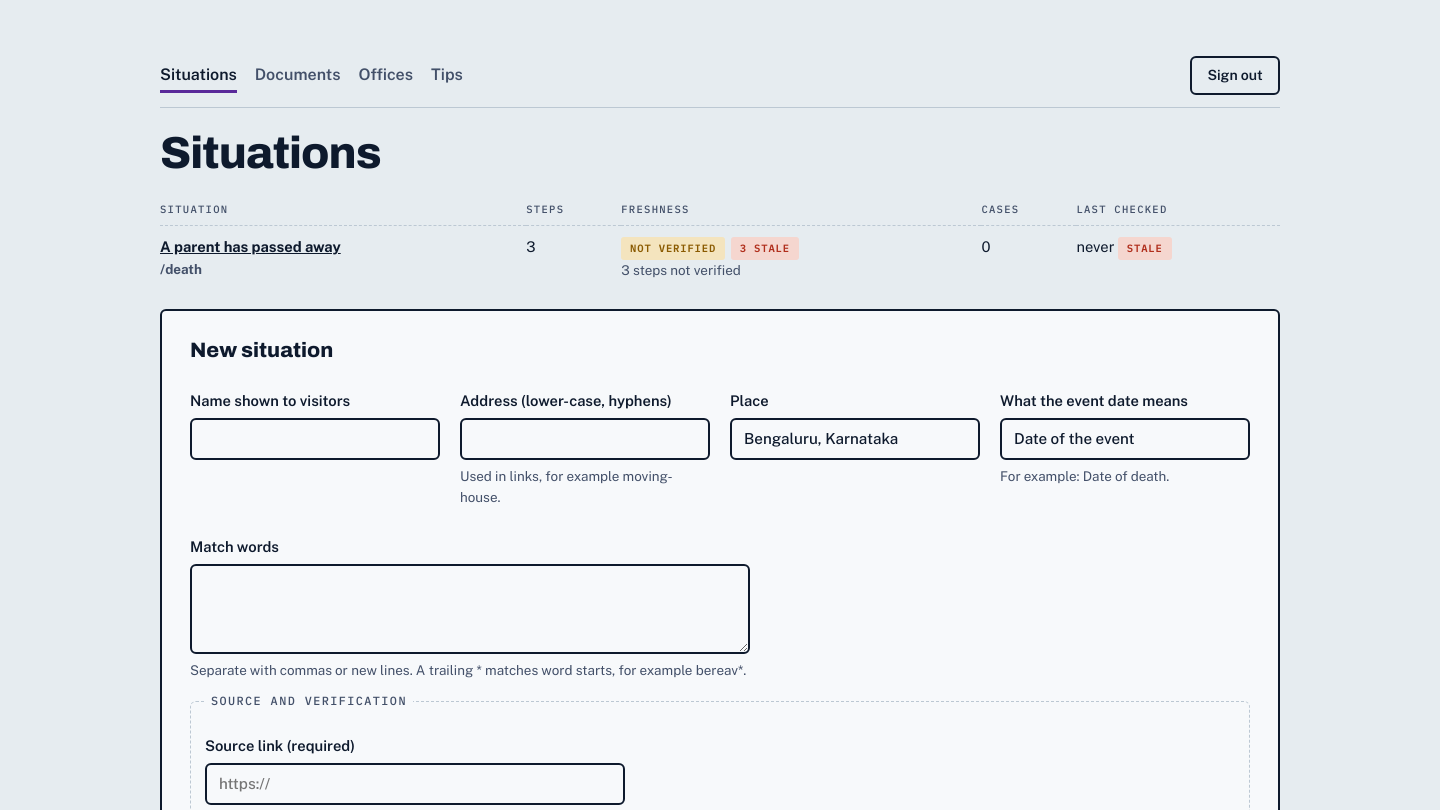
Test case: Admin: sign in › signs out
This screenshot has width=1440, height=810.
Click the button "Sign out".
click(1235, 75)  # box [1190, 56, 1280, 95]
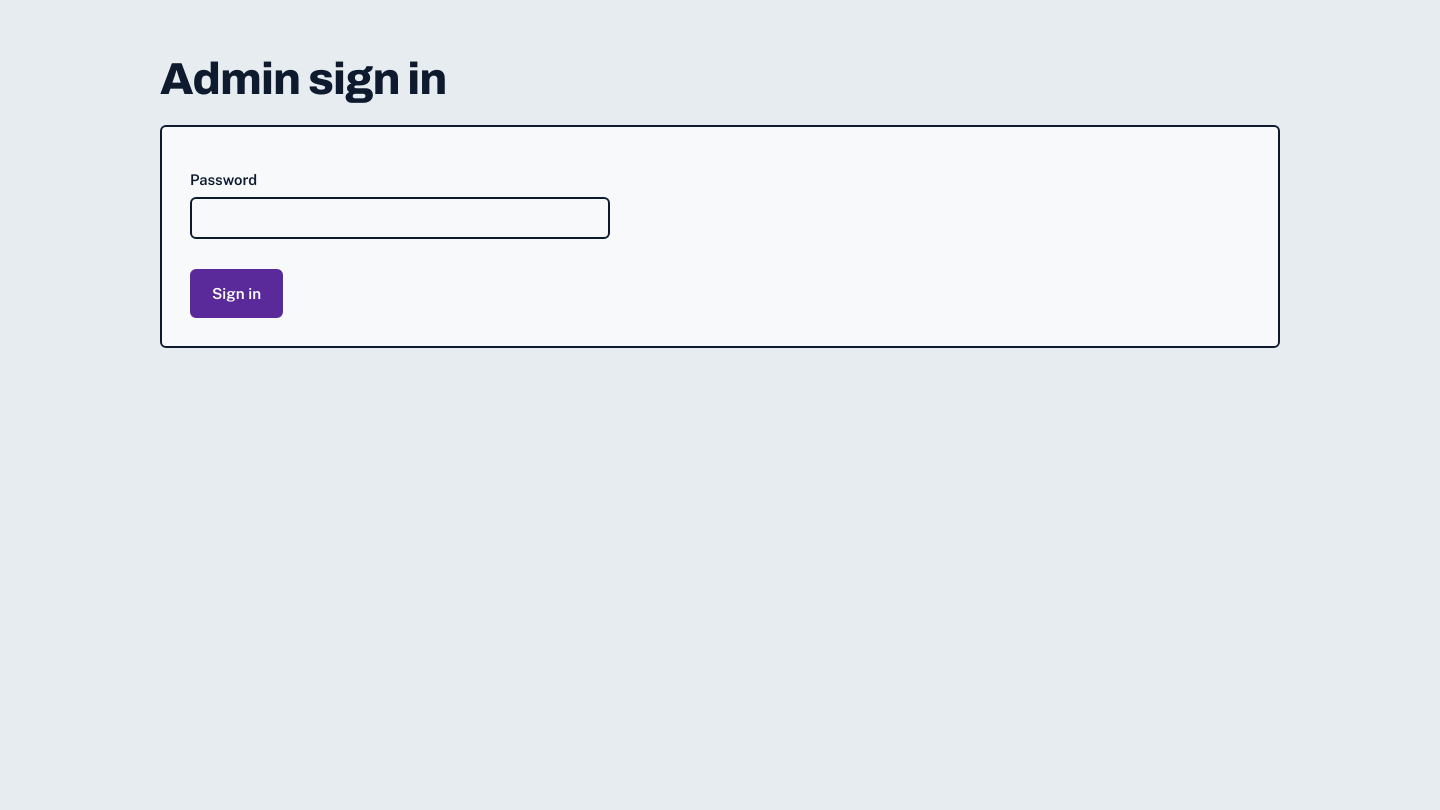
Now the heading "Admin sign in" is shown, box [160, 55, 446, 103]
